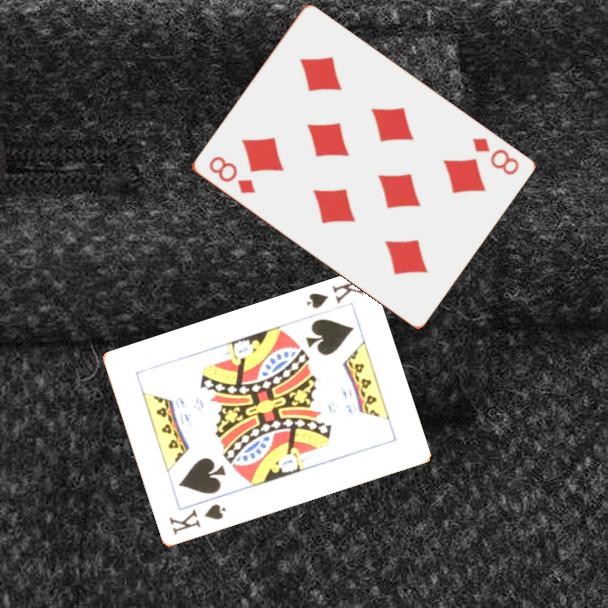d08: (205, 153, 258, 197), (468, 134, 521, 178)
s13: (303, 274, 367, 312), (165, 501, 229, 538)
